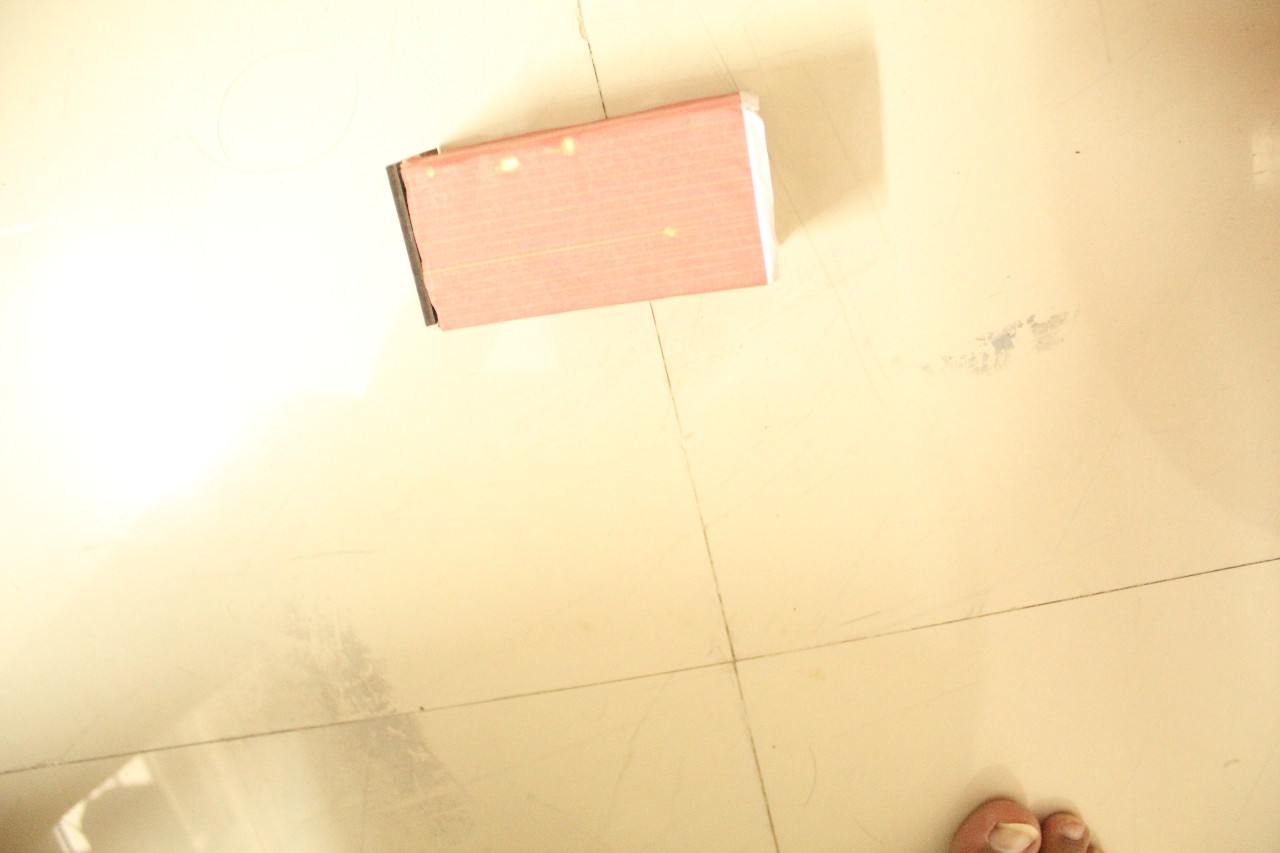red: (941, 791, 1103, 853)
